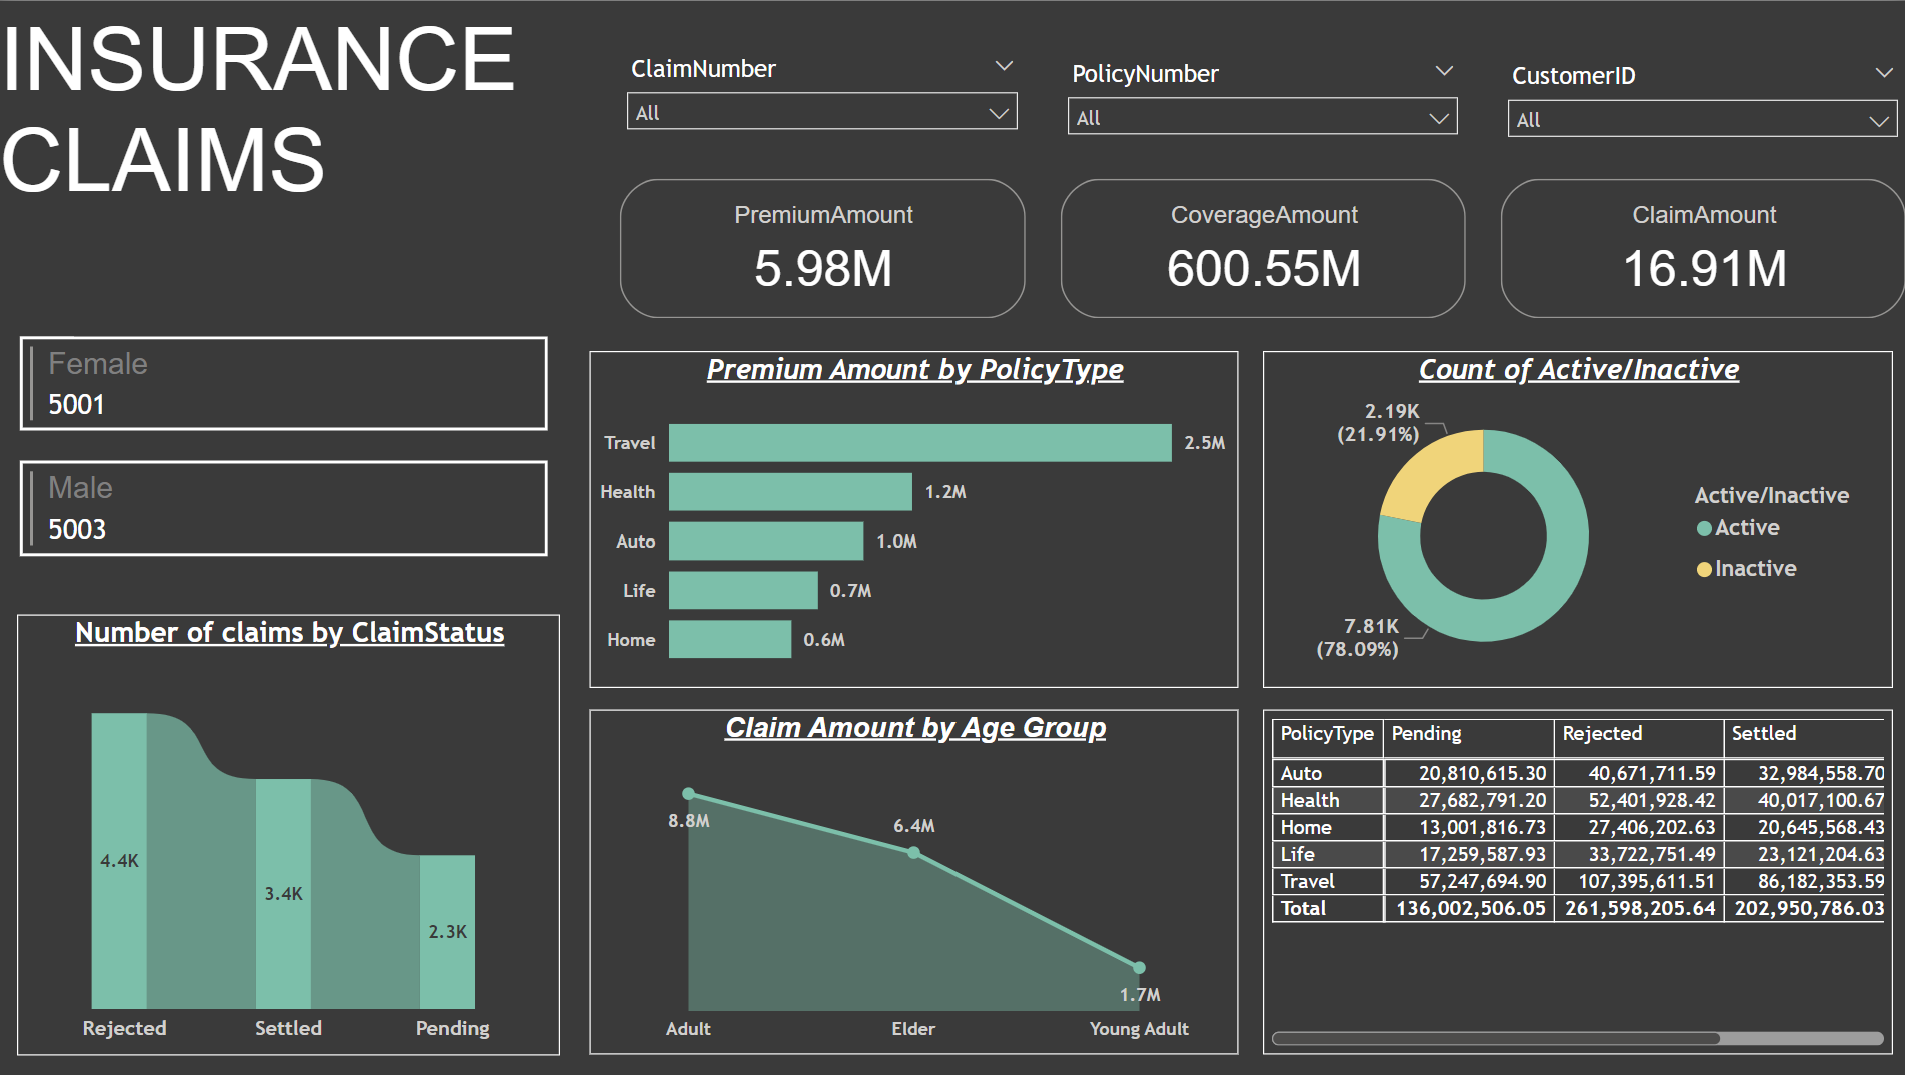

The page's visual inventory and layout, read from the dashboard file:
{"tool":"powerbi","page":{"name":"Page 1","canvas":[1280,720],"ordinal":0},"visuals":[{"type":"slicer","fields":{"Values":["InsData.ClaimNumber"]},"box":[413,30.2,279.9,64.5],"z":0},{"type":"slicer","fields":{"Values":["InsData.PolicyNumber"]},"box":[706.7,32.9,279.9,64.5],"z":1000},{"type":"slicer","fields":{"Values":["InsData.CustomerID"]},"box":[1000.3,34.3,279.9,64.5],"z":2000},{"type":"textbox","box":[0,0,376.7,146.7],"z":3000},{"type":"cardVisual","fields":{"Data":["Sum(InsData.PremiumAmount)"]},"box":[413.3,113.3,280,103.3],"z":4000},{"type":"cardVisual","fields":{"Data":["Sum(InsData.ClaimAmount)"]},"box":[1000,113.3,280,103.3],"z":5000},{"type":"cardVisual","fields":{"Data":["Sum(InsData.CoverageAmount)"]},"box":[706.7,113.3,280,103.3],"z":6000},{"type":"multiRowCard","fields":{"Values":["InsData.Gender","CountNonNull(InsData.Gender)"]},"box":[14,218,362,204],"z":7000},{"type":"ribbonChart","title":"Number of claims by ClaimStatus","fields":{"Category":["InsData.ClaimStatus"],"Y":["CountNonNull(InsData.ClaimStatus)"]},"box":[16,408,362,294],"z":8000},{"type":"barChart","title":"Premium Amount by PolicyType","fields":{"Category":["InsData.PolicyType"],"Y":["Sum(InsData.PremiumAmount)"]},"box":[398,234,432,224],"z":9000},{"type":"lineChart","title":"Claim Amount by Age Group","fields":{"Category":["InsData.Age Group"],"Y":["Sum(InsData.ClaimAmount)"]},"box":[398,472,432,230],"z":10000},{"type":"donutChart","title":"Count of Active/Inactive","fields":{"Category":["InsData.Active/Inactive"],"Y":["CountNonNull(InsData.Active/Inactive)"]},"box":[846,234,420,224],"z":11000},{"type":"pivotTable","fields":{"Values":["Sum(InsData.CoverageAmount)"],"Rows":["InsData.PolicyType"],"Columns":["InsData.ClaimStatus"]},"box":[846,472,420,230],"z":12000}]}

Visuals, with their boxes in screenshot pixels (x1, y1, x2, y2), scaled from the page's 1280x720 canvas onto the 1905x1075 screenshot:
slicer - InsData.ClaimNumber: 615, 45, 1031, 141
slicer - InsData.PolicyNumber: 1052, 49, 1468, 145
slicer - InsData.CustomerID: 1489, 51, 1904, 148
textbox: 0, 0, 561, 219
cardVisual - Sum(InsData.PremiumAmount): 615, 169, 1032, 323
cardVisual - Sum(InsData.ClaimAmount): 1488, 169, 1904, 323
cardVisual - Sum(InsData.CoverageAmount): 1052, 169, 1468, 323
multiRowCard - InsData.Gender x CountNonNull(InsData.Gender): 21, 325, 560, 630
"Number of claims by ClaimStatus" ribbonChart: 24, 609, 563, 1048
"Premium Amount by PolicyType" barChart: 592, 349, 1235, 684
"Claim Amount by Age Group" lineChart: 592, 705, 1235, 1048
"Count of Active/Inactive" donutChart: 1259, 349, 1884, 684
pivotTable - Sum(InsData.CoverageAmount) x InsData.PolicyType: 1259, 705, 1884, 1048
